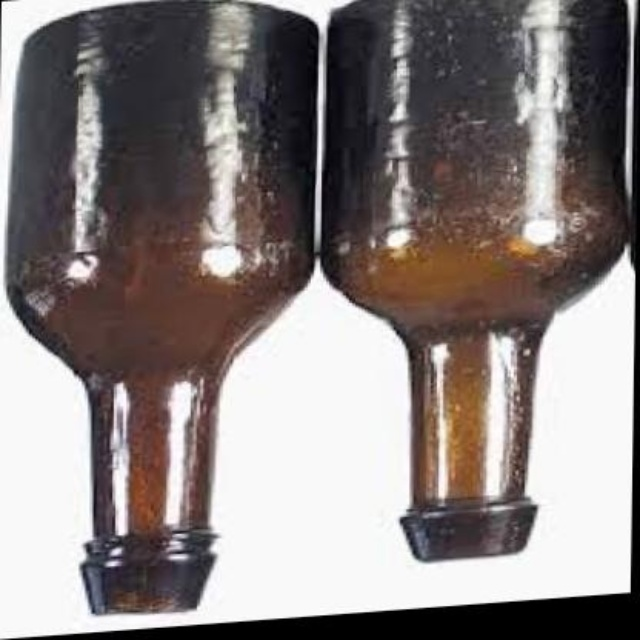trash: (8, 0, 315, 612), (323, 0, 626, 558)
